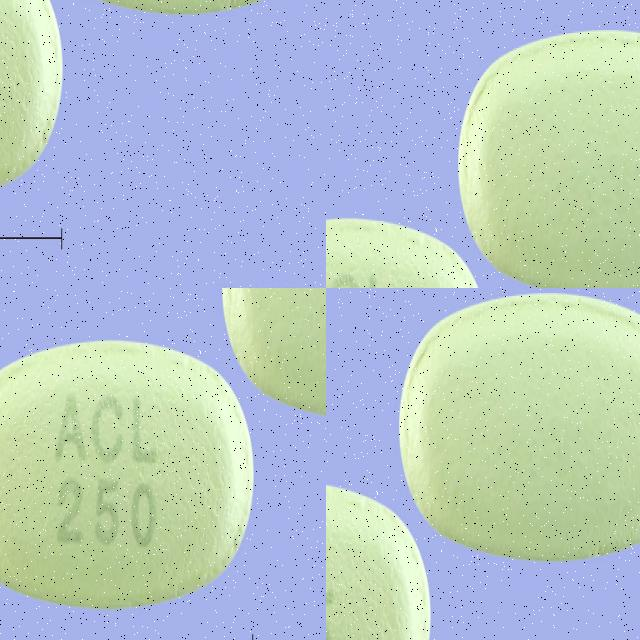Amocla 625mg: (0, 30, 108, 288)
Amoclan Duo: (0, 428, 319, 640)
Clorid: (398, 292, 640, 564), (457, 29, 640, 288), (326, 482, 433, 640)
